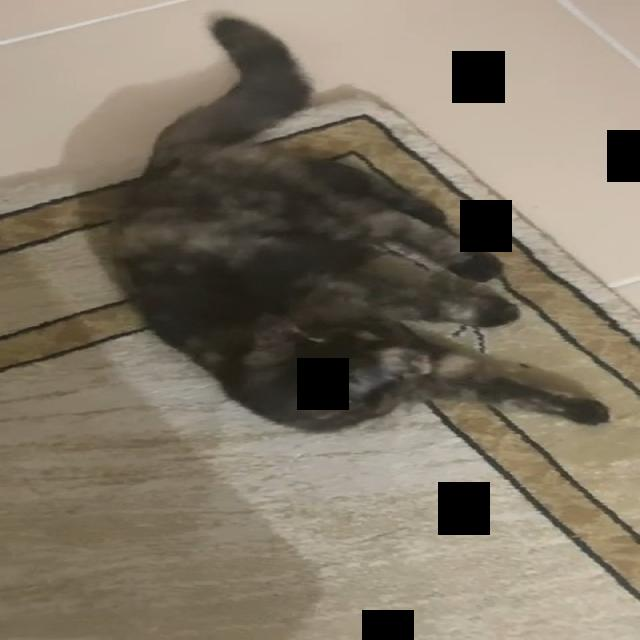authorized: (88, 11, 611, 434)
